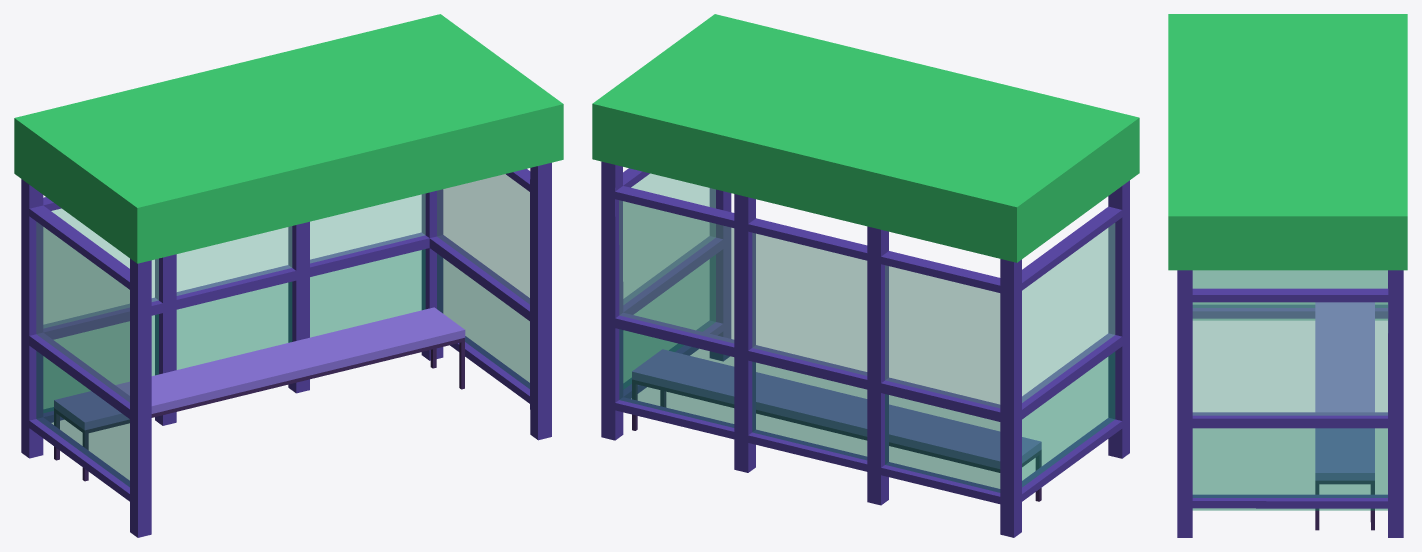
Rendered from BusStop.fbx.
3 renders of one model, left to right at view 1: azimuth 30°, elevation 25°; view 2: azimuth 150°, elevation 25°; view 3: azimuth 270°, elevation 25°, orthographic. The views are drawn at different scales.
Visible parts, largest first — view 1: BusStop; view 2: BusStop; view 3: BusStop.
Boxes of the visible parts, x1,y1,x2,y2 form: BusStop: [14, 14, 563, 537]; BusStop: [592, 14, 1139, 537]; BusStop: [1168, 14, 1407, 537].
Bounding box in the file's own units: 400 × 300 × 200.
